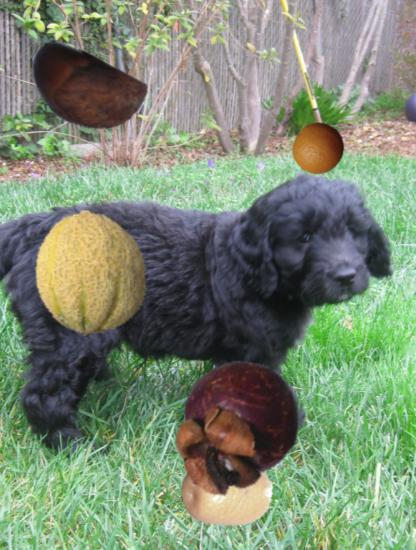Cantaloupe: (28, 210, 155, 337)
Chestnut: (24, 31, 143, 150)
Kumquats: (181, 446, 273, 538)
Mangostan: (163, 356, 306, 499)
Orange: (292, 122, 345, 175)
